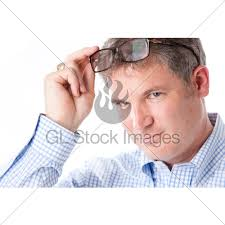white_male: (113, 69, 181, 152)
